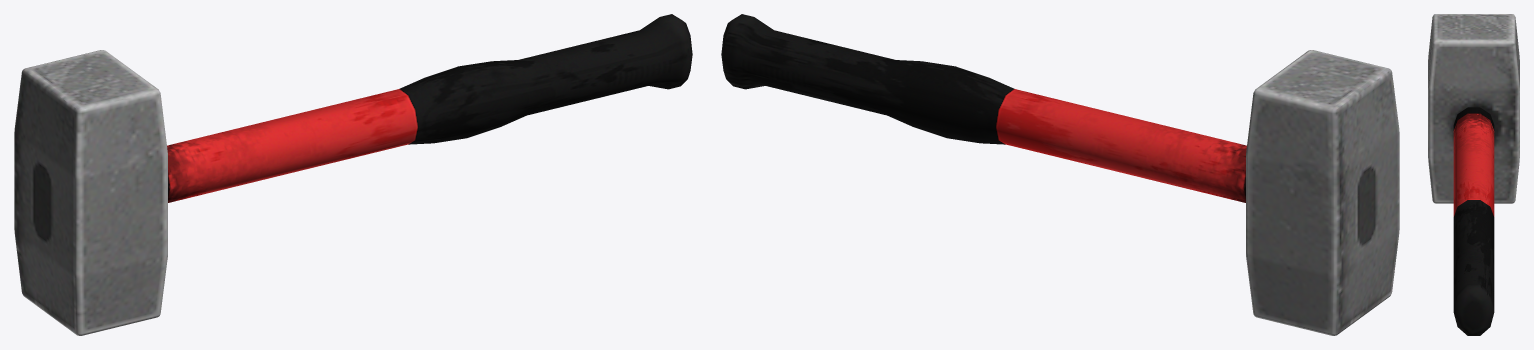
The model's file is Hammer_01.fbx.
The picture shows the model from 3 angles, left to right: view 1: azimuth 30°, elevation 25°; view 2: azimuth 150°, elevation 25°; view 3: azimuth 270°, elevation 25°; orthographic projection. The views are drawn at different scales.
Visible parts, largest first — view 1: Hammer_01_LOD0; view 2: Hammer_01_LOD0; view 3: Hammer_01_LOD0.
Part boxes in pixels (x1,y1,x2,y2): Hammer_01_LOD0: (14, 14, 692, 335); Hammer_01_LOD0: (721, 14, 1399, 335); Hammer_01_LOD0: (1428, 14, 1519, 335).
Size of what is drawn, in the model's own units: 40.3 by 13.76 by 7.02.
